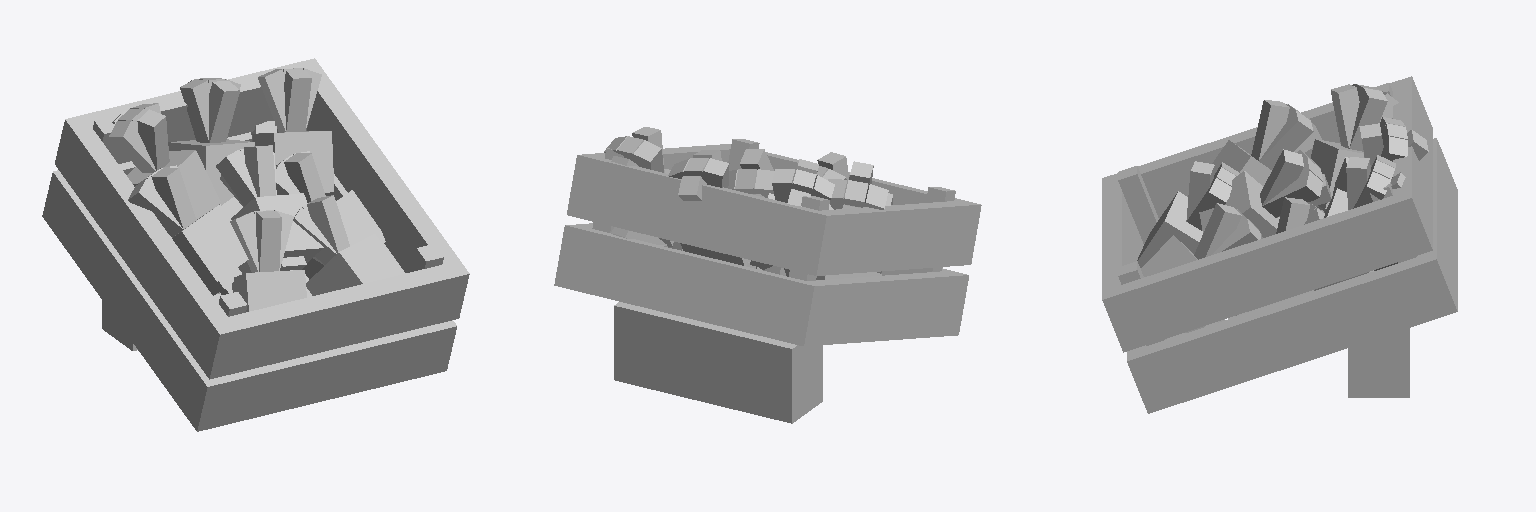
File: 1763_beet_crate.obj
3 views of the same model, side by side, from view 1: azimuth 30°, elevation 25°; view 2: azimuth 150°, elevation 25°; view 3: azimuth 270°, elevation 25° (orthographic).
Parts seen in each view (by area): view 1: Beat1, Plank8, Plank2, Plank9, BeetLeaf1, Plank3, Plank5, BeetLeaf3, Plank11, Plank6, BeetLeaf4, Beat2 (+3 smaller); view 2: Block, Plank12, Plank11, Plank9, Plank8, BeetLeaf3, BeetLeaf1, BeetLeaf, Plank5, BeetLeaf4, Plank6, Beat1 (+2 smaller); view 3: Plank5, Plank6, BeetLeaf1, Beat1, BeetLeaf4, Plank8, Block, Plank11, Plank2, Plank12, corner1, BeetLeaf (+1 smaller).
Boxes of the visible parts, <box> form: Beat1: <box>127,131,404,311</box>; Plank8: <box>55,115,237,379</box>; Plank2: <box>227,265,451,374</box>; Plank9: <box>42,170,224,431</box>; BeetLeaf1: <box>137,70,349,271</box>; Plank3: <box>215,325,439,427</box>; Plank5: <box>297,58,469,322</box>; BeetLeaf3: <box>109,69,336,272</box>; Plank11: <box>83,63,300,163</box>; Plank6: <box>325,174,456,374</box>; BeetLeaf4: <box>130,68,321,270</box>; Beat2: <box>208,256,306,295</box>; Block: <box>614,302,822,423</box>; Plank12: <box>572,229,803,341</box>; Plank11: <box>584,158,817,271</box>; Plank9: <box>786,271,968,346</box>; Plank8: <box>799,200,981,275</box>; BeetLeaf3: <box>633,140,888,275</box>; BeetLeaf1: <box>611,127,873,245</box>; BeetLeaf: <box>617,136,868,268</box>; Plank5: <box>567,144,730,218</box>; BeetLeaf4: <box>604,136,847,209</box>; Plank6: <box>554,223,592,289</box>; Beat1: <box>659,169,892,279</box>; Plank5: <box>1102,189,1432,352</box>; Plank6: <box>1127,251,1457,413</box>; BeetLeaf1: <box>1186,84,1383,259</box>; Beat1: <box>1137,139,1373,332</box>; BeetLeaf4: <box>1187,88,1407,270</box>; Plank8: <box>1102,76,1432,218</box>; Block: <box>1348,328,1409,397</box>; Plank11: <box>1393,85,1432,239</box>; Plank2: <box>1102,182,1142,290</box>; Plank12: <box>1417,146,1457,302</box>; corner1: <box>1118,166,1158,243</box>; BeetLeaf: <box>1211,84,1407,229</box>.
Bounding box in the file's own units: 0.875 × 0.9104 × 1.08.